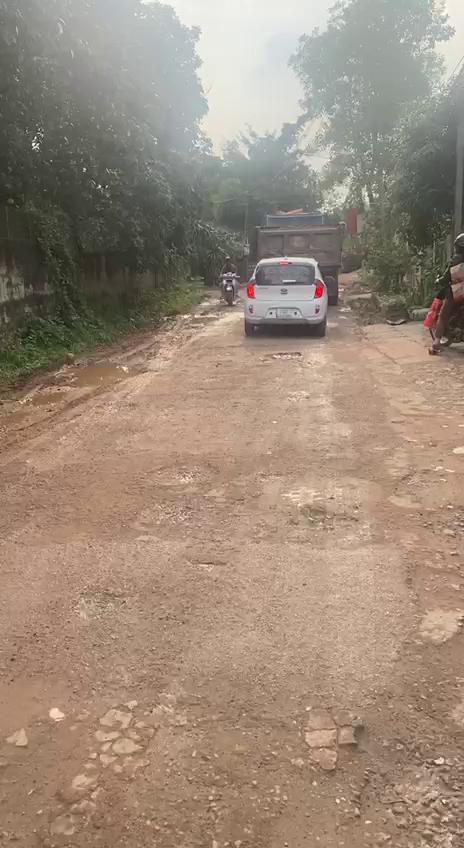pothole: (385, 472, 464, 748), (0, 720, 140, 848), (349, 752, 464, 848), (10, 508, 94, 546), (292, 496, 367, 538), (151, 459, 226, 487), (78, 584, 124, 624), (259, 348, 306, 369)
